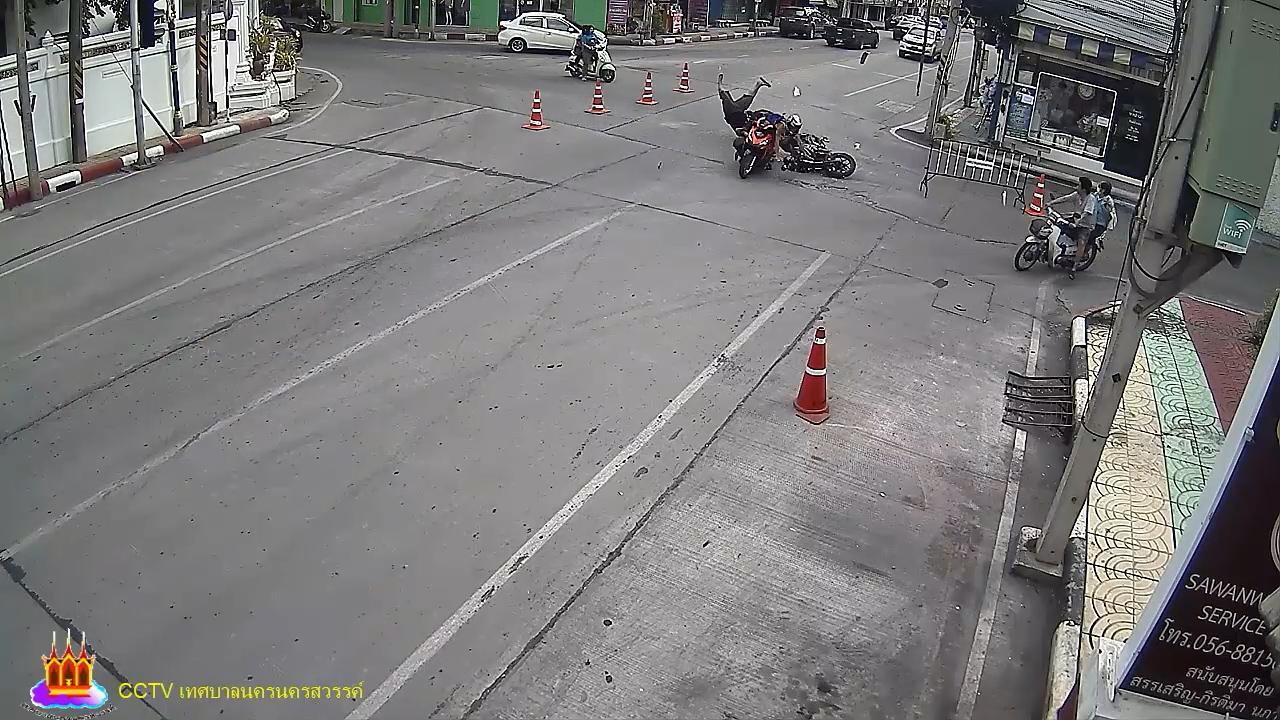accident: (716, 71, 769, 132)
